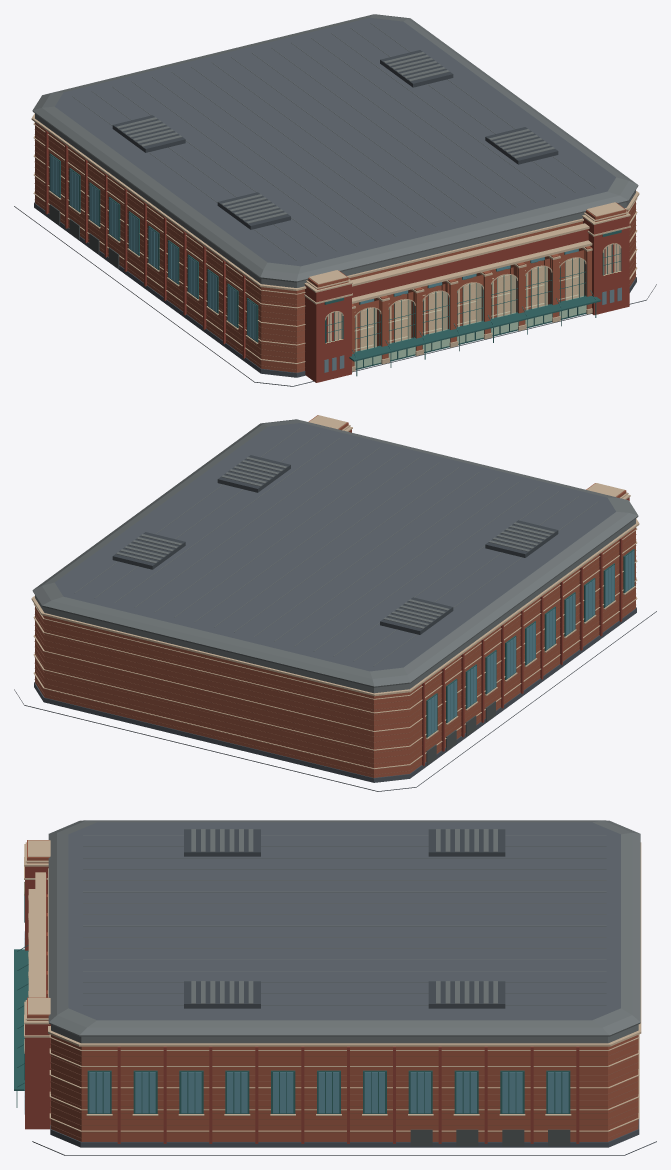
The model's file is shell.glb.
The picture shows the model from 3 angles, top to bottom: view 1: azimuth 30°, elevation 25°; view 2: azimuth 150°, elevation 25°; view 3: azimuth 270°, elevation 25°; orthographic projection. The views are drawn at different scales.
Visible parts, largest first — view 1: shell_roof_canopy_top, shell_bowl_mass_cladding, shell_roof_canopy, shell_bowl_mass_cladding.001, shell_bowl_mass_window_frames, shell_bowl_mass_arched_windows, shell_bowl_mass_architraves, shell_bowl_mass_facade_small_glass, shell_roof_canopy_ventilation, shell_bowl_mass_facade_panels, shell_roof_canopy_seams, shell_roof_canopy_ventilation_covers (+6 smaller); view 2: shell_roof_canopy_top, shell_bowl_mass_cladding, shell_roof_canopy, shell_bowl_mass_facade_panels, shell_bowl_mass_mortar_lines, shell_bowl_mass_window_frames, shell_roof_canopy_ventilation, shell_roof_canopy_seams, shell_bowl_mass_facade_small_glass, shell_bowl_mass_facade_panels.001, shell_roof_canopy_ventilation_covers, shell_bowl_mass_cladding.001 (+4 smaller); view 3: shell_roof_canopy_top, shell_bowl_mass_cladding, shell_roof_canopy, shell_bowl_mass_window_frames, shell_bowl_mass_facade_small_glass, shell_roof_canopy_seams, shell_bowl_mass_cladding.001, shell_bowl_mass_facade_panels, shell_roof_canopy_ventilation, shell_bowl_mass_facade_panels.001, shell_bowl_mass_mortar_lines, shell_bowl_mass_architraves (+4 smaller).
Boxes of the visible parts, bbox=[...] form: shell_roof_canopy_top: bbox=[55, 17, 615, 266]; shell_bowl_mass_cladding: bbox=[35, 122, 635, 372]; shell_roof_canopy: bbox=[32, 14, 638, 282]; shell_bowl_mass_cladding.001: bbox=[45, 130, 629, 382]; shell_bowl_mass_window_frames: bbox=[49, 153, 621, 376]; shell_bowl_mass_arched_windows: bbox=[328, 244, 620, 351]; shell_bowl_mass_architraves: bbox=[48, 190, 630, 371]; shell_bowl_mass_facade_small_glass: bbox=[50, 155, 621, 372]; shell_roof_canopy_ventilation: bbox=[112, 50, 558, 229]; shell_bowl_mass_facade_panels: bbox=[31, 113, 639, 363]; shell_roof_canopy_seams: bbox=[72, 23, 595, 260]; shell_roof_canopy_ventilation_covers: bbox=[116, 52, 554, 223]; shell_roof_canopy_top: bbox=[55, 423, 615, 671]; shell_bowl_mass_cladding: bbox=[35, 415, 635, 777]; shell_roof_canopy: bbox=[32, 419, 638, 687]; shell_bowl_mass_facade_panels: bbox=[31, 518, 639, 769]; shell_bowl_mass_mortar_lines: bbox=[34, 529, 636, 774]; shell_bowl_mass_window_frames: bbox=[426, 549, 634, 737]; shell_roof_canopy_ventilation: bbox=[112, 455, 558, 634]; shell_roof_canopy_seams: bbox=[75, 428, 598, 665]; shell_bowl_mass_facade_small_glass: bbox=[428, 550, 634, 736]; shell_bowl_mass_facade_panels.001: bbox=[35, 519, 635, 693]; shell_roof_canopy_ventilation_covers: bbox=[116, 457, 554, 628]; shell_bowl_mass_cladding.001: bbox=[349, 429, 629, 766]; shell_roof_canopy_top: bbox=[68, 822, 620, 1020]; shell_bowl_mass_cladding: bbox=[27, 840, 638, 1141]; shell_roof_canopy: bbox=[48, 820, 640, 1036]; shell_bowl_mass_window_frames: bbox=[14, 882, 570, 1113]; shell_bowl_mass_facade_small_glass: bbox=[24, 931, 568, 1114]; shell_roof_canopy_seams: bbox=[83, 835, 606, 1005]; shell_bowl_mass_cladding.001: bbox=[25, 866, 579, 1143]; shell_bowl_mass_facade_panels: bbox=[48, 842, 641, 1131]; shell_roof_canopy_ventilation: bbox=[184, 829, 505, 1008]; shell_bowl_mass_facade_panels.001: bbox=[51, 1024, 638, 1043]; shell_bowl_mass_mortar_lines: bbox=[50, 1035, 638, 1138]; shell_bowl_mass_architraves: bbox=[24, 840, 571, 1115].
Bounding box in the file's own units: 141 × 36.2 × 168.
